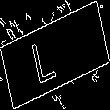L_N: (40, 26, 70, 84)
